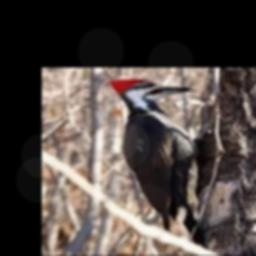Woodpecker: (109, 79, 202, 247)
